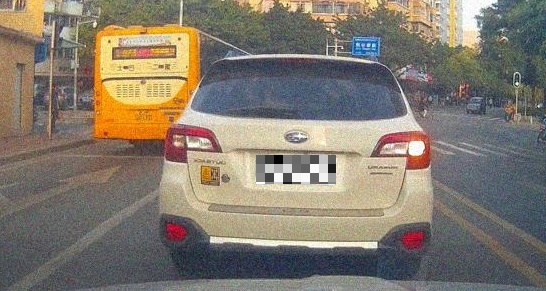L_light: (165, 123, 223, 163)
R_light: (370, 130, 430, 170)
T_light: (282, 58, 316, 64)
day-right: (159, 53, 433, 279)
plate_1: (256, 155, 336, 184)
